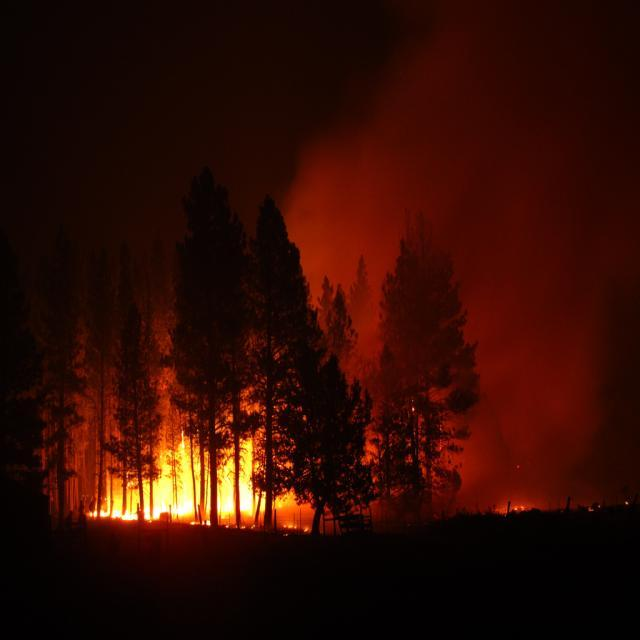Fire: (155, 447, 256, 515), (102, 492, 146, 526)
